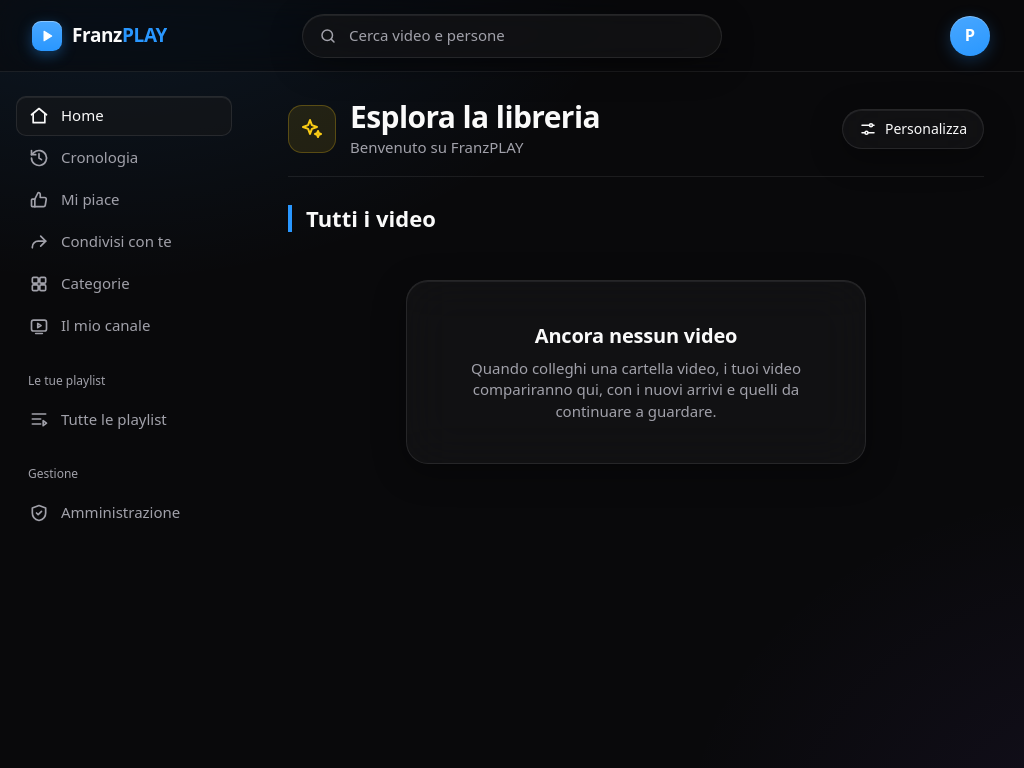
it: search › goes to the search page with the typed text
The image size is (1024, 768).
Type "  vacanze  " into the search field.
click(526, 36); type("  vacanze  ")  # box [347, 24, 705, 47]
Then press Enter
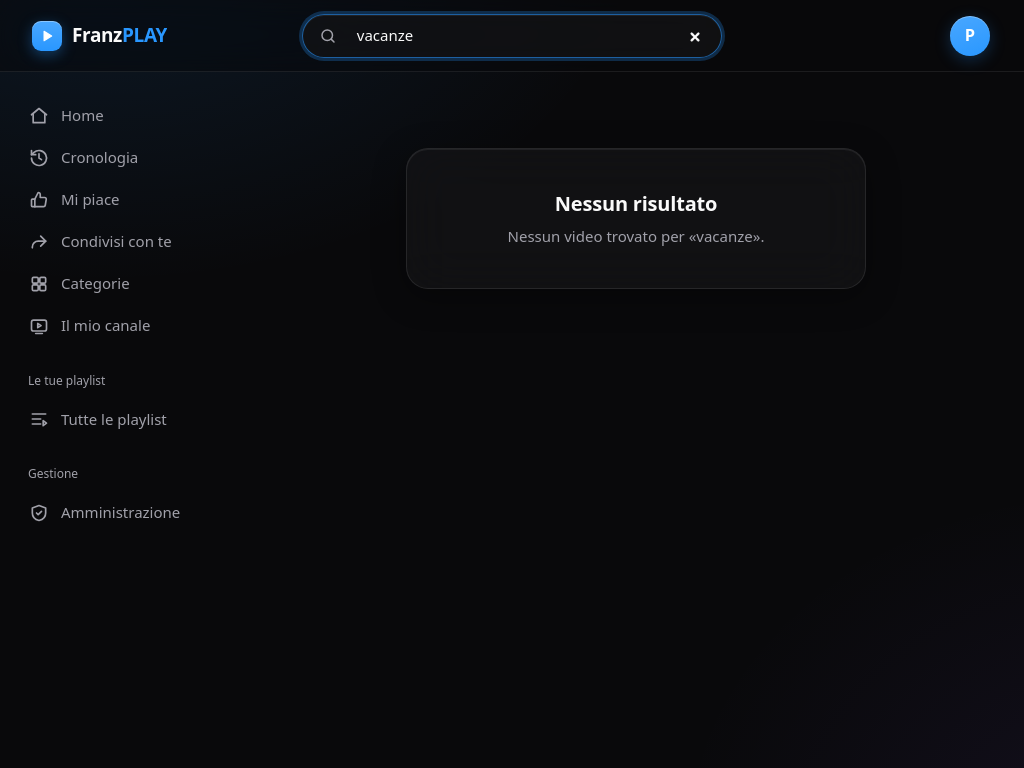
Check: the text "Nessun video trovato per «vacanze»." is shown, box [508, 226, 764, 248]
